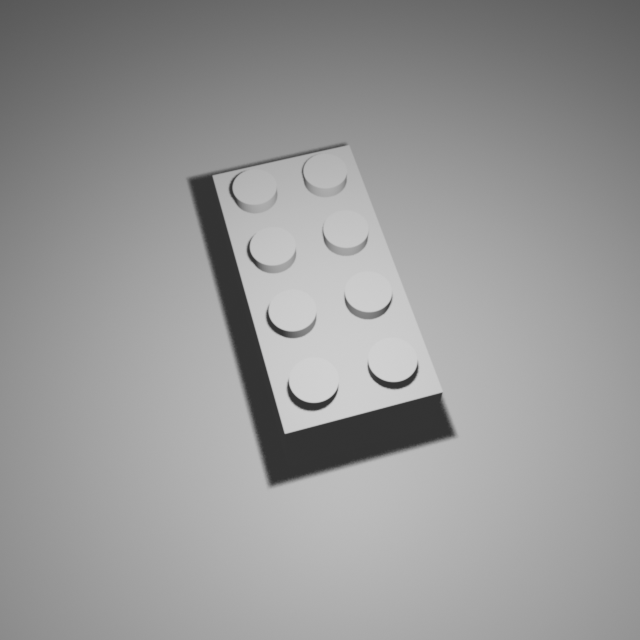lego_2x4: (211, 136, 445, 467)
